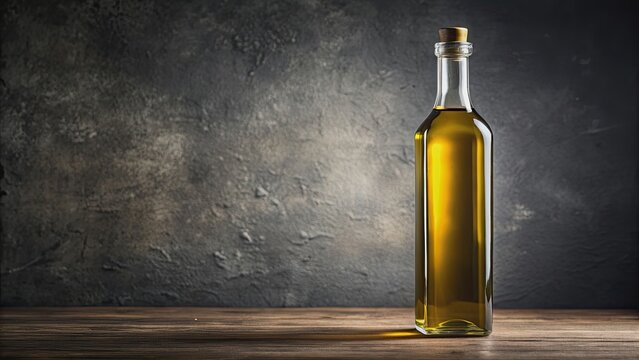glass_bottle: (401, 18, 509, 344)
